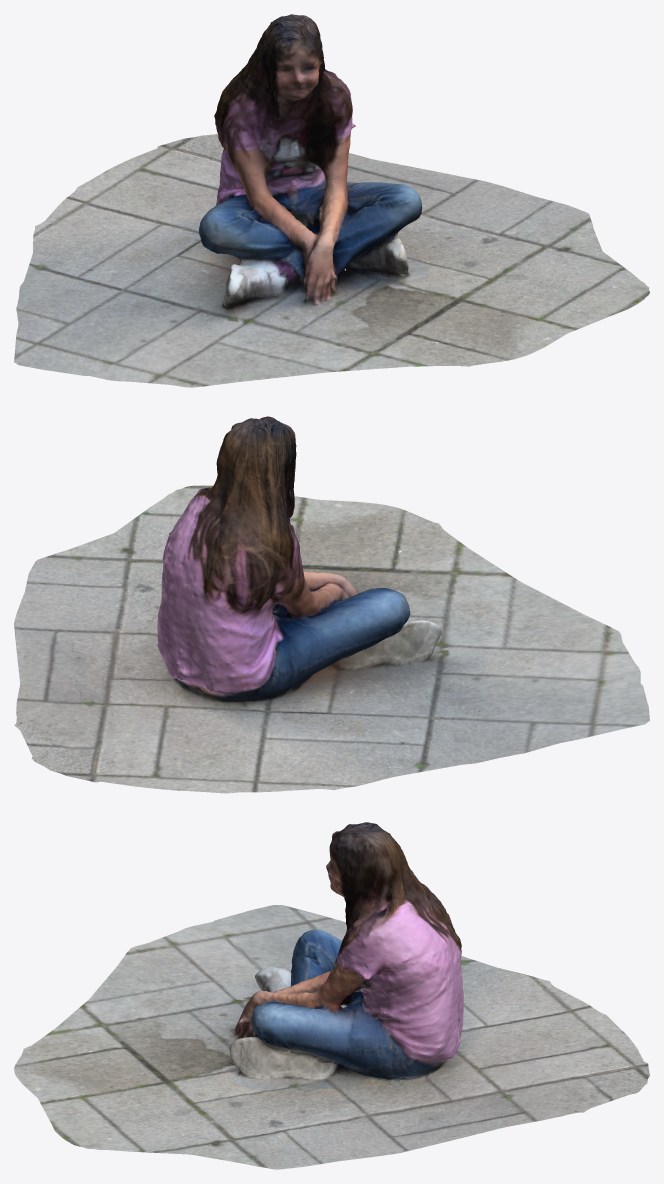
Rendered from scaniverse-2025-05-22-163523.fbx.
The picture shows the model from 3 angles, top to bottom: view 1: azimuth 30°, elevation 25°; view 2: azimuth 150°, elevation 25°; view 3: azimuth 270°, elevation 25°; orthographic projection. The views are drawn at different scales.
Visible parts, largest first — view 1: mesh; view 2: mesh; view 3: mesh.
Part boxes in pixels (x1=…): mesh: x1=14, y1=14, x2=649, y2=387; mesh: x1=14, y1=416, x2=649, y2=793; mesh: x1=14, y1=822, x2=649, y2=1169.
Size of the model in its own units: 1.72 by 0.6806 by 1.68.
1 material, 1 textured.
